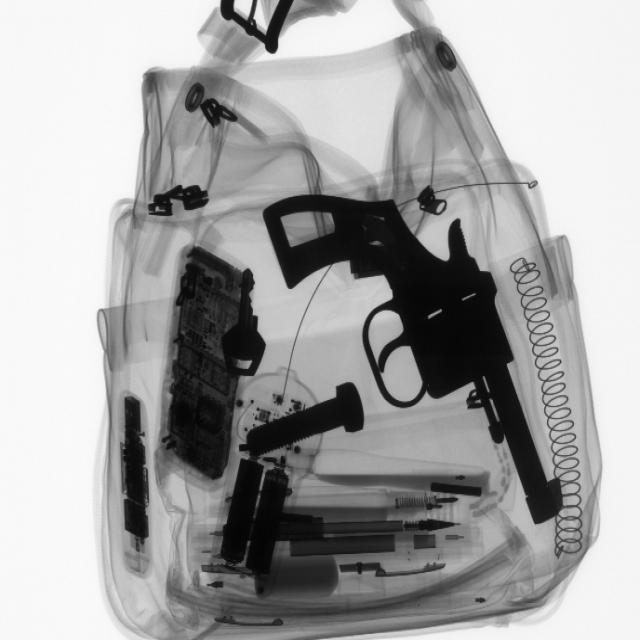GUN: (260, 194, 566, 525)
